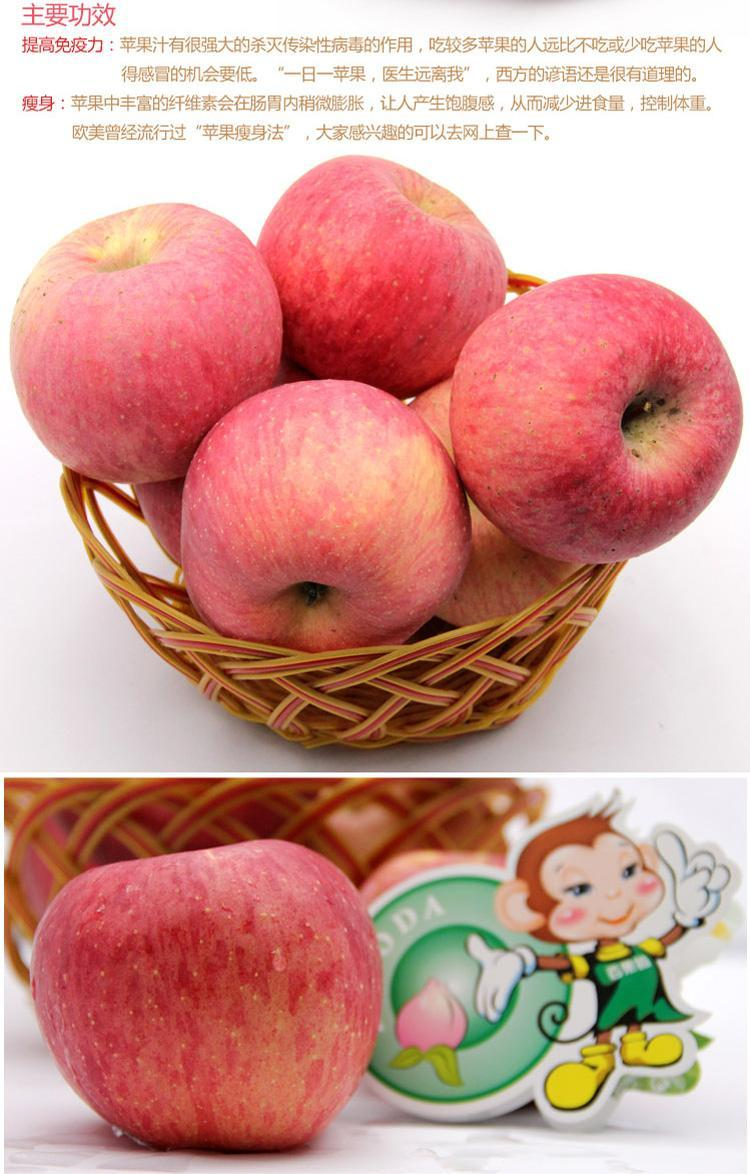apple: (26, 834, 388, 1141), (438, 266, 737, 561), (179, 359, 472, 642), (5, 202, 284, 475), (259, 152, 505, 394)
